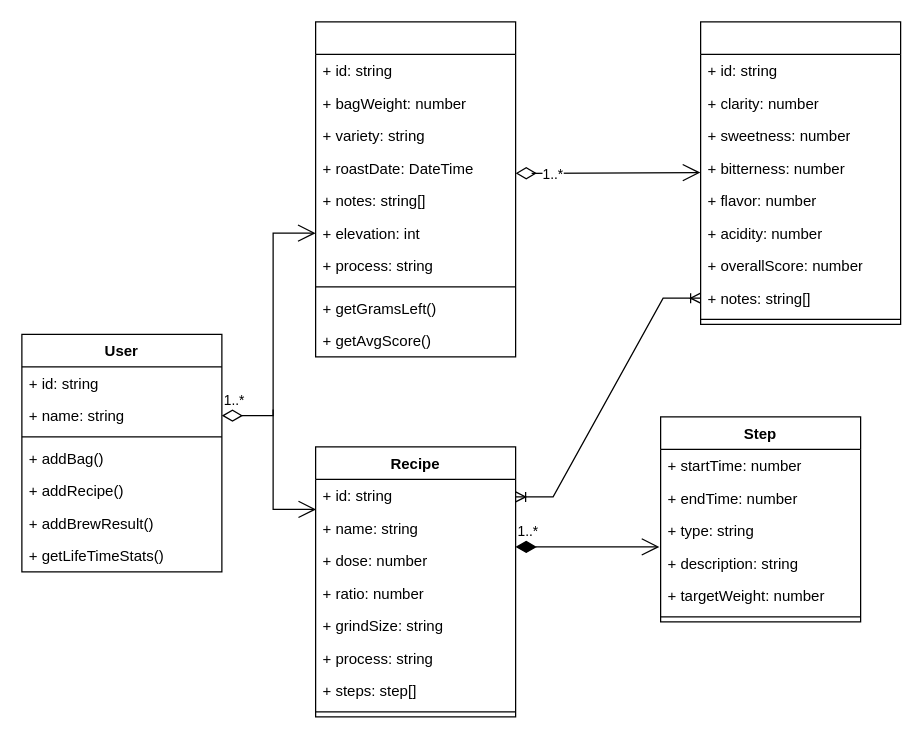
Image size: 923x739. Some labels were removed from this diagram. The box of each missing label's shape, as (x1, y1, x2, y2) in pixels:
BrewResults: (699, 21, 901, 324)
coffeeBag: (314, 21, 516, 357)
